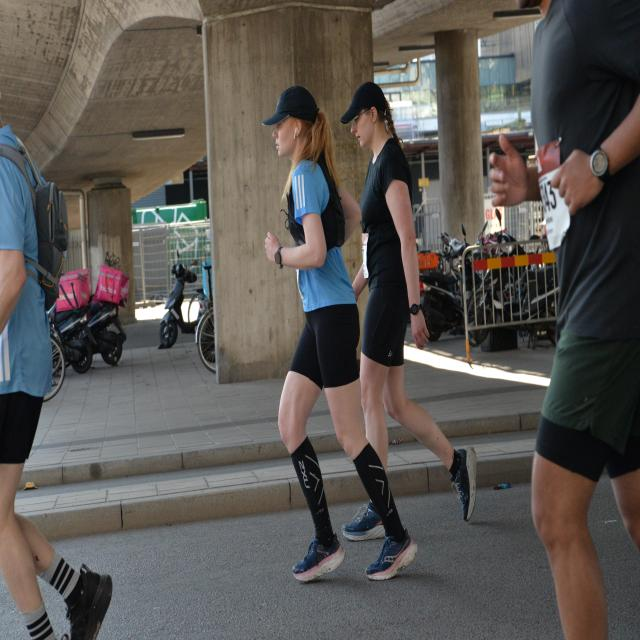runner-detect: (248, 75, 421, 605), (339, 76, 484, 544)
